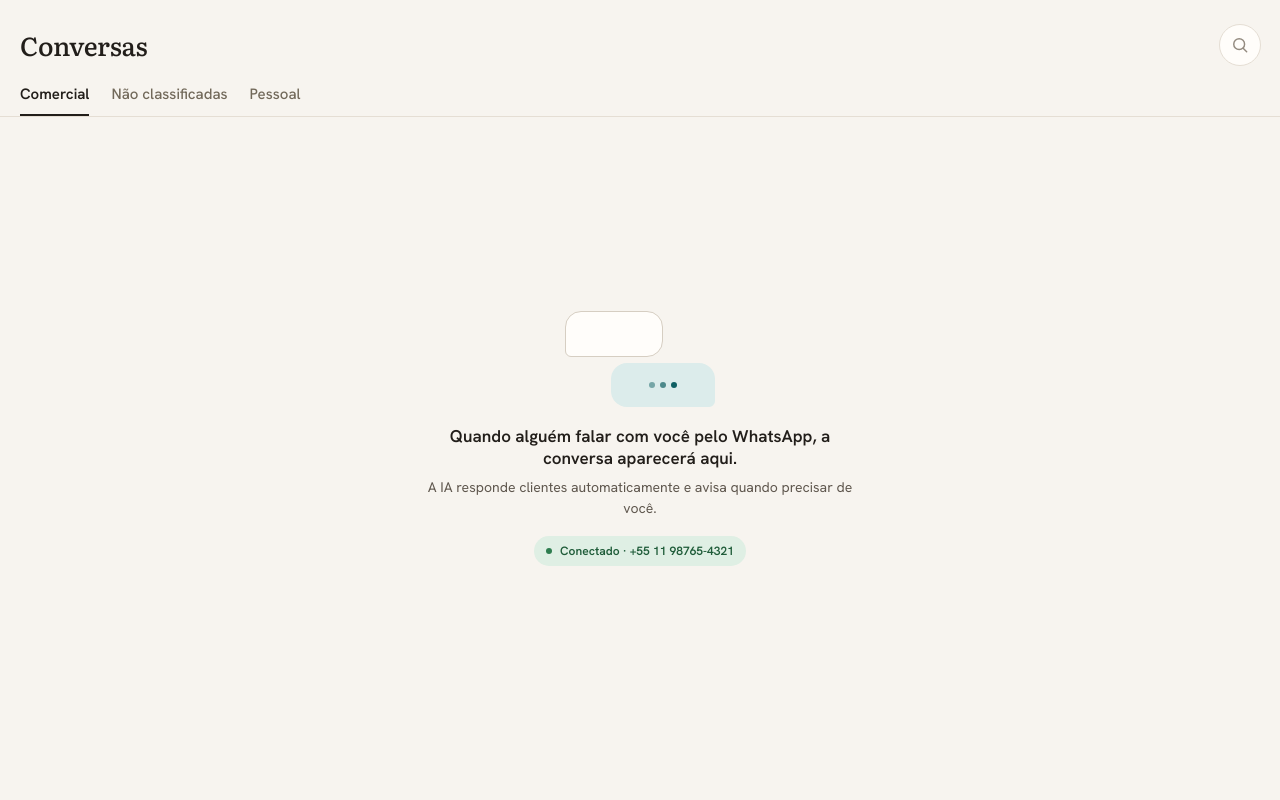
Test case: C4: vazio com o WhatsApp conectado › outra aba vazia continua com o estado próprio e não mostra a pílula
Expected: the heading "Quando alguém falar com você pelo WhatsApp, a conversa aparecerá aqui." is shown, [420, 425, 860, 469]
Click the tab "Pessoal".
click(275, 100)  # box [250, 84, 301, 116]
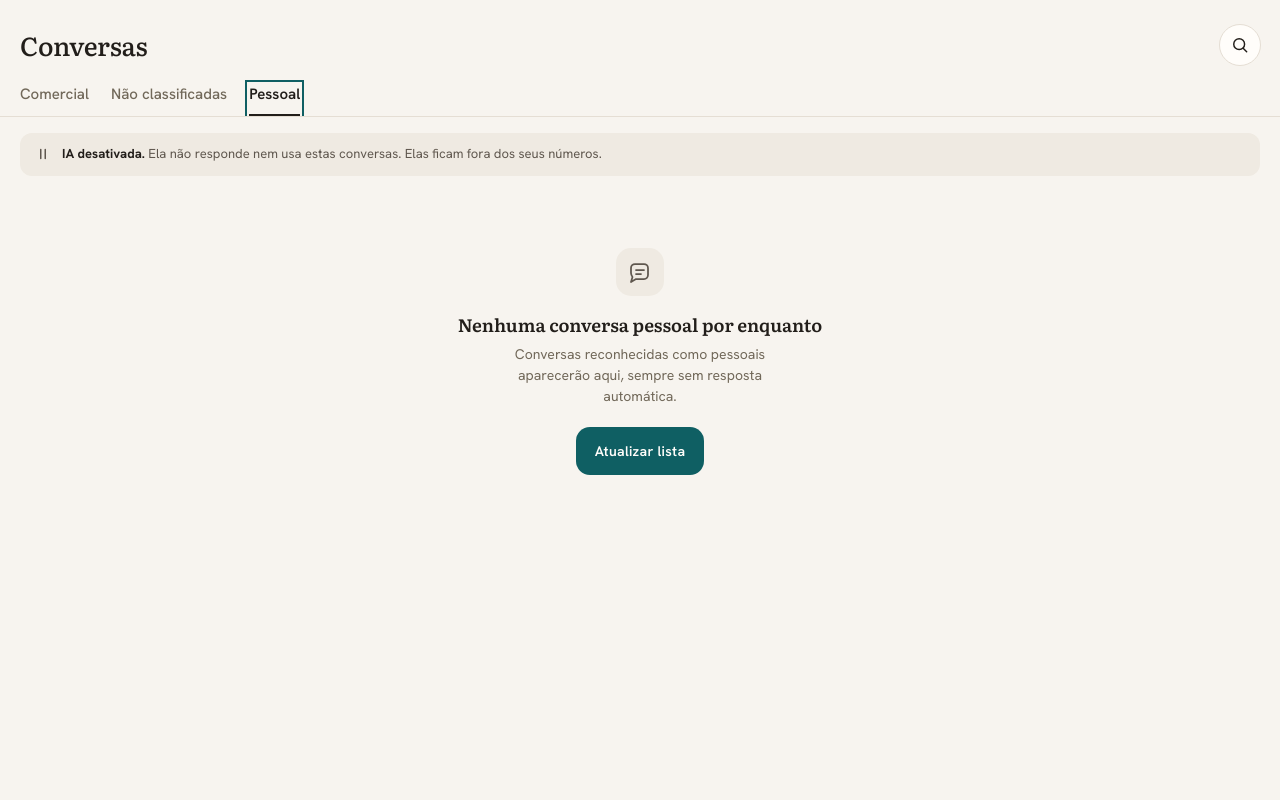
Expected: the heading "Nenhuma conversa pessoal por enquanto" is shown, [458, 312, 822, 338]
Expected: the text "Conectado" is gone
